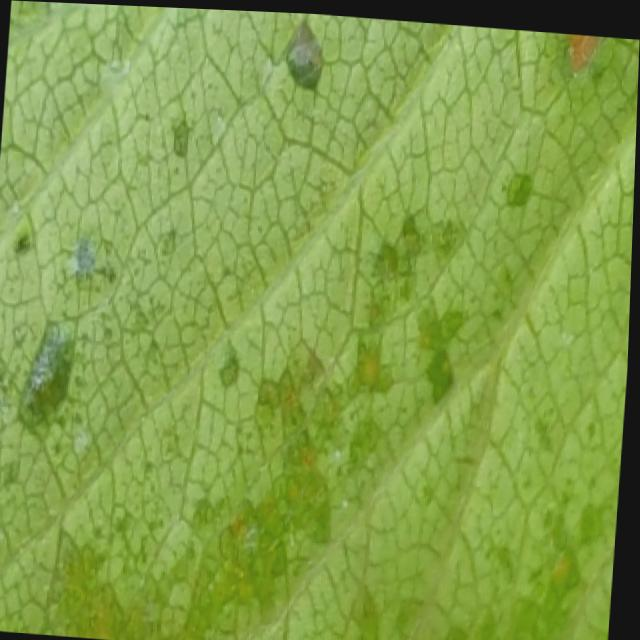Angular Leafspot: (0, 10, 638, 640)
